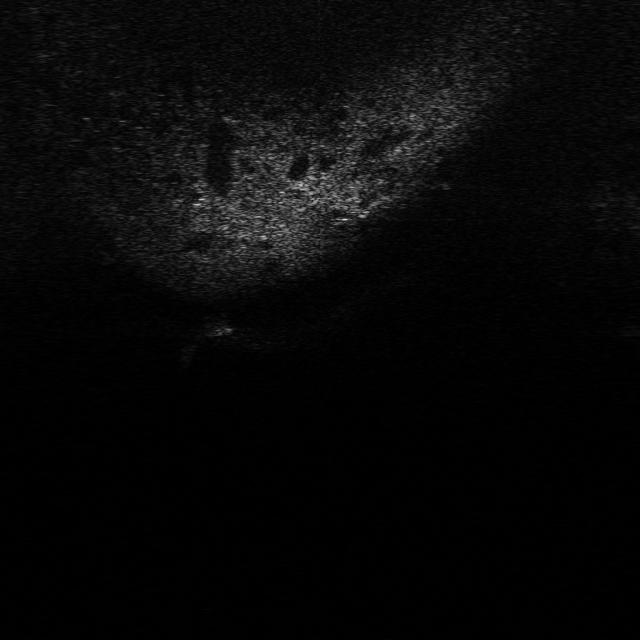cube: (193, 312, 236, 338)
cylinder: (173, 342, 198, 372)
